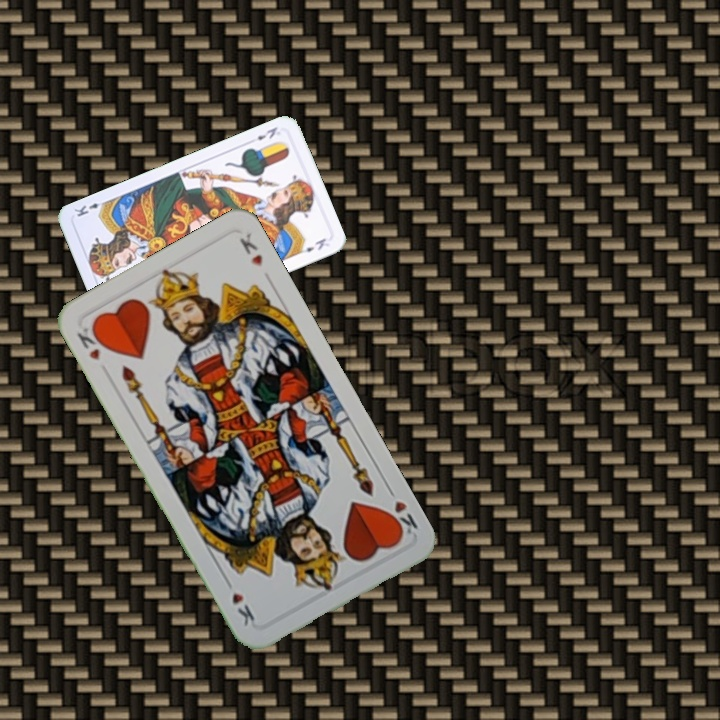EK: (253, 123, 280, 143)
HK: (383, 482, 420, 542), (73, 321, 108, 363)
